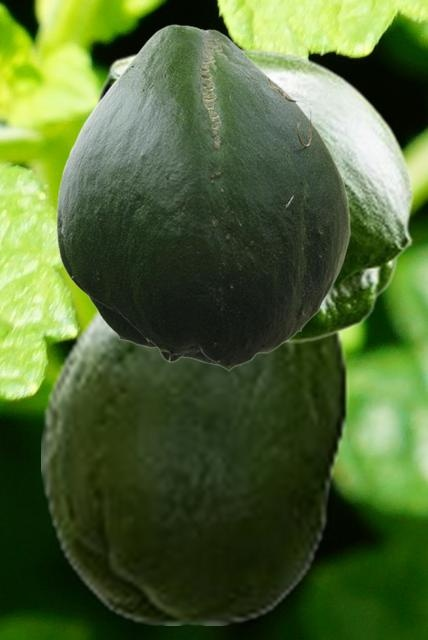sayote: (56, 24, 349, 370), (41, 305, 348, 624), (82, 47, 413, 342)
